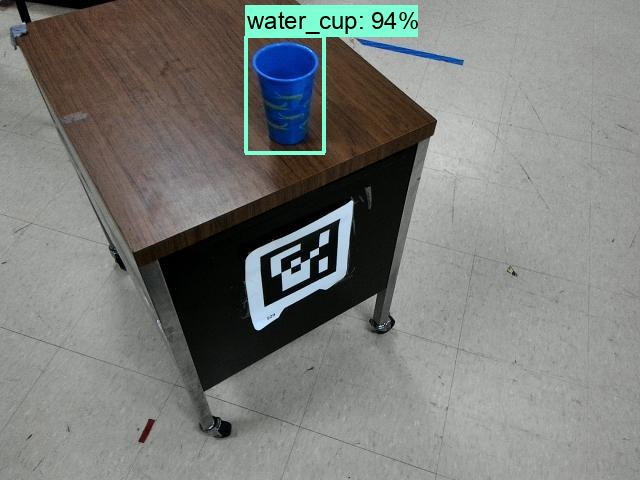water_cup: (248, 35, 322, 150)
